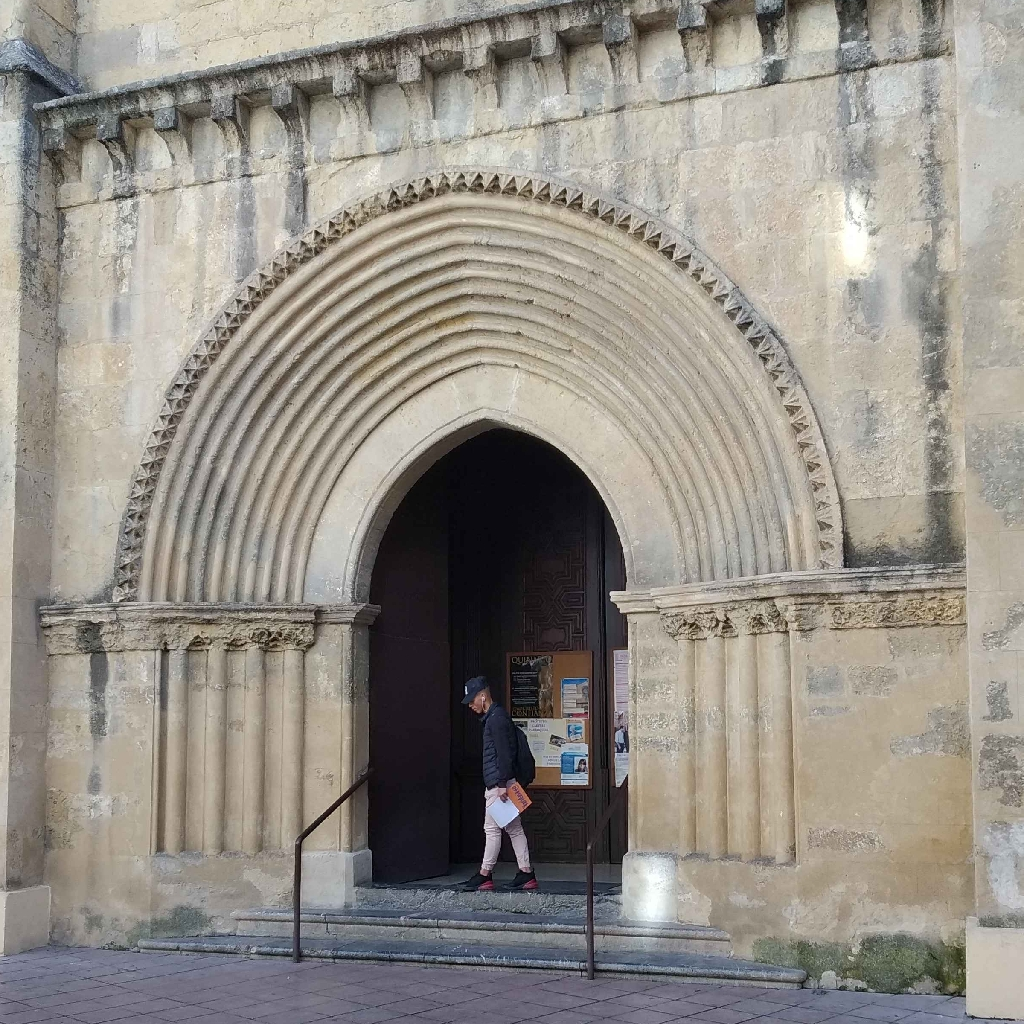arco-apuntado: (345, 402, 646, 615)
